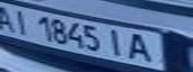1: (30, 12, 54, 42)
4: (66, 20, 84, 50)
5: (81, 23, 106, 53)
8: (48, 16, 69, 46)
A: (124, 30, 160, 64), (0, 2, 18, 33)
I: (103, 26, 130, 57), (9, 7, 36, 36)
